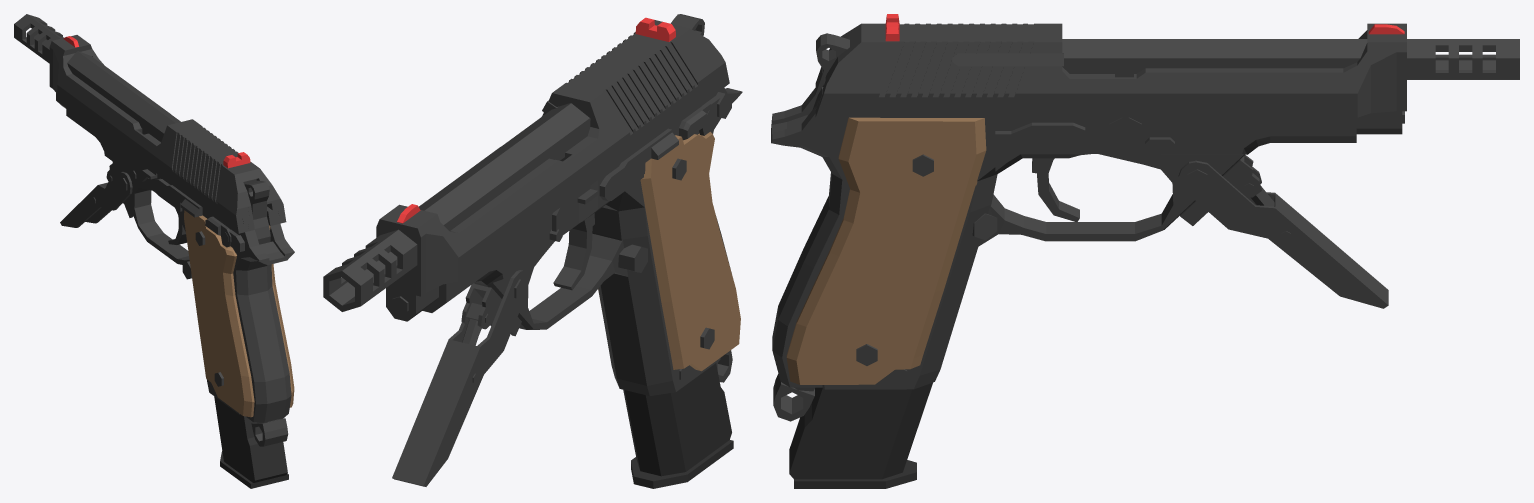
The model's file is pistol_4.glb.
3 views of the same model, side by side, from view 1: azimuth 30°, elevation 25°; view 2: azimuth 150°, elevation 25°; view 3: azimuth 270°, elevation 25° (orthographic). The views are drawn at different scales.
Visible parts, largest first — view 1: p1_paint, p6_paint, p25_accent, p0_paint, p39_mag, p10_paint, p5_paint, p35_paint, p21_paint, p38_paint, p26_accent, p28_paint (+2 smaller); view 2: p1_paint, p25_accent, p6_paint, p0_paint, p39_mag, p5_paint, p10_paint, p21_paint, p20_paint, p11_paint, p4_paint, p17_paint (+3 smaller); view 3: p1_paint, p26_accent, p6_paint, p0_paint, p39_mag, p5_paint, p10_paint, p19_paint, p22_paint, p11_paint, p20_paint, p38_paint (+3 smaller).
Part boxes in pixels (x1,y1,x2,y2): p1_paint: [49, 35, 286, 233]; p6_paint: [66, 108, 294, 422]; p25_accent: [184, 210, 254, 417]; p0_paint: [14, 14, 180, 142]; p39_mag: [214, 396, 288, 488]; p10_paint: [112, 161, 189, 264]; p5_paint: [60, 172, 132, 227]; p35_paint: [244, 180, 270, 244]; p21_paint: [154, 178, 202, 217]; p38_paint: [251, 418, 288, 446]; p26_accent: [269, 225, 294, 407]; p28_paint: [205, 216, 231, 247]; p1_paint: [376, 20, 729, 296]; p25_accent: [640, 131, 740, 371]; p6_paint: [422, 87, 742, 395]; p0_paint: [323, 103, 590, 311]; p39_mag: [623, 363, 733, 488]; p5_paint: [392, 270, 528, 486]; p10_paint: [474, 233, 627, 329]; p21_paint: [599, 128, 678, 201]; p20_paint: [553, 213, 594, 290]; p11_paint: [461, 283, 521, 336]; p4_paint: [386, 286, 438, 321]; p17_paint: [552, 186, 598, 233]; p1_paint: [815, 23, 1406, 117]; p26_accent: [786, 117, 986, 384]; p6_paint: [771, 69, 1356, 389]; p0_paint: [1062, 39, 1519, 79]; p39_mag: [789, 382, 932, 488]; p5_paint: [1178, 160, 1388, 308]; p10_paint: [978, 154, 1244, 246]; p19_paint: [995, 122, 1085, 157]; p22_paint: [952, 53, 1063, 66]; p11_paint: [1180, 155, 1261, 225]; p20_paint: [1032, 158, 1079, 222]; p38_paint: [773, 374, 814, 421].
Size of the model in its own units: 0.031 by 0.1608 by 0.24.
